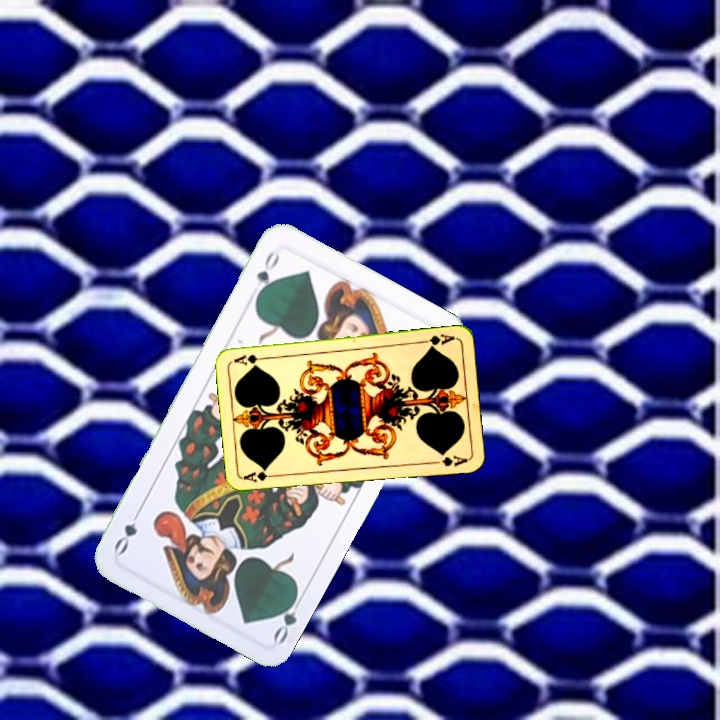GA: (417, 330, 457, 351), (240, 468, 281, 485)
GO: (269, 588, 307, 646), (252, 246, 283, 301)
